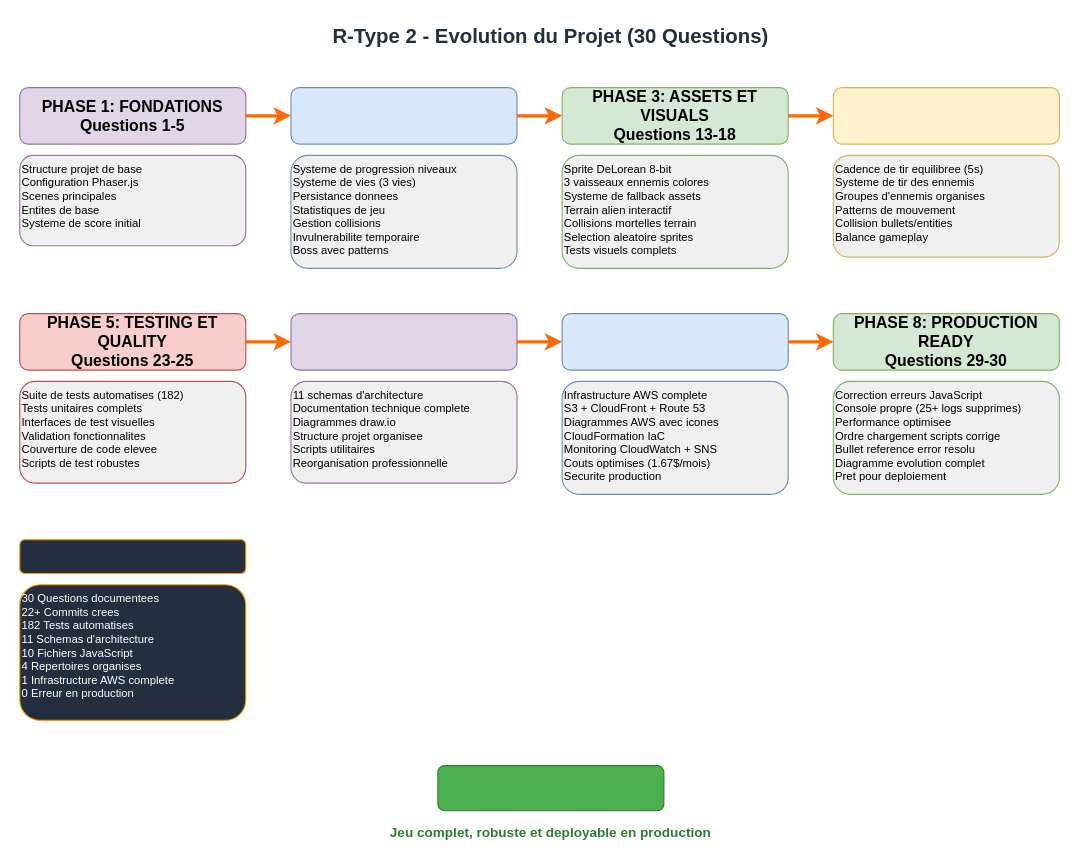
Some shapes in this 1079 by 863 pixel diagram are drawn without their labels. The centre of each missing label's shape, as x and y in pixels:
METRIQUES FINALES: (x=132, y=555)
PHASE 2: GAMEPLAY CORE Questions 6-12: (x=403, y=115)
PHASE 4: COMBAT SYSTEM Questions 19-22: (x=945, y=115)
PHASE 6: ARCHITECTURE ET DOCS Questions 26-27: (x=403, y=341)
PHASE 7: AWS ET DEPLOYMENT Question 28: (x=674, y=341)
PROJET REUSSI: (x=550, y=787)
